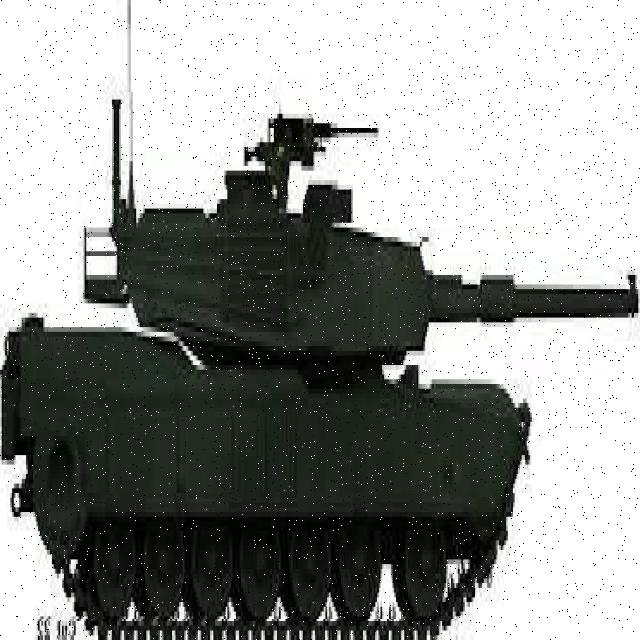MIL_MBT: (24, 93, 634, 619)
